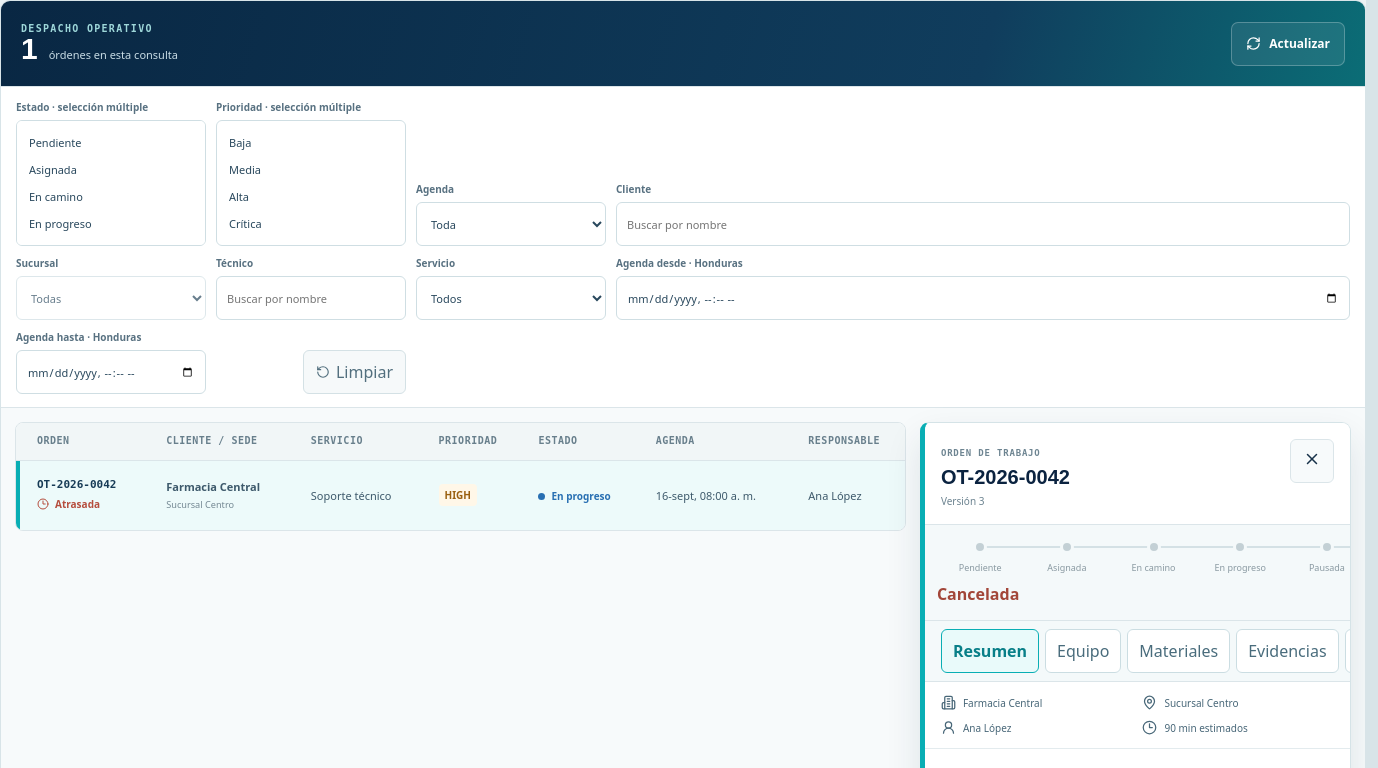
Test: OrdersPage › muestra equipo histórico y resumen completo de una orden cerrada a lectores
The width and height of the screenshot is (1378, 768).
Step 1. Click the tab "Equipo" → coordinates (1083, 651), box x1=1045 y1=629 x2=1121 y2=673
(page scrolled)
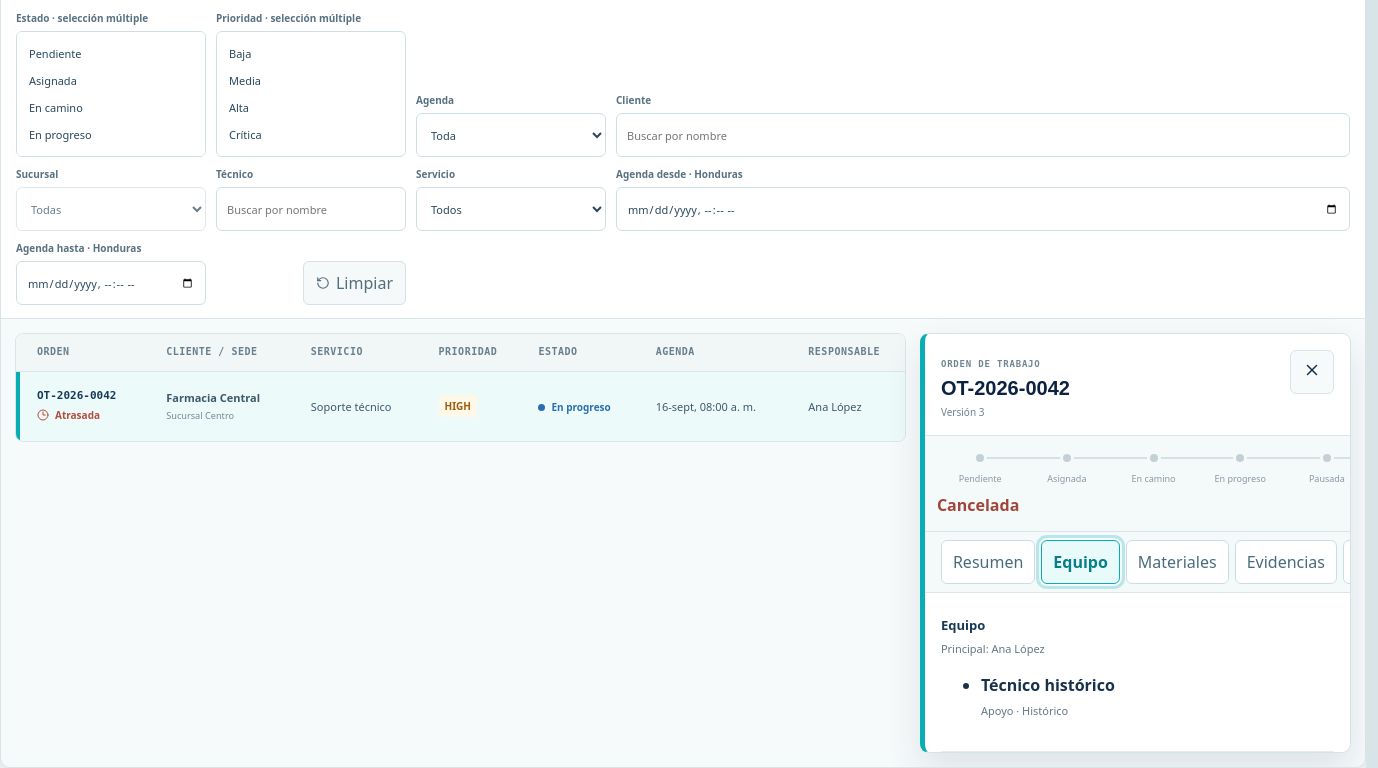
Expected: the text "Técnico histórico" is shown, x1=981 y1=674 x2=1115 y2=696
